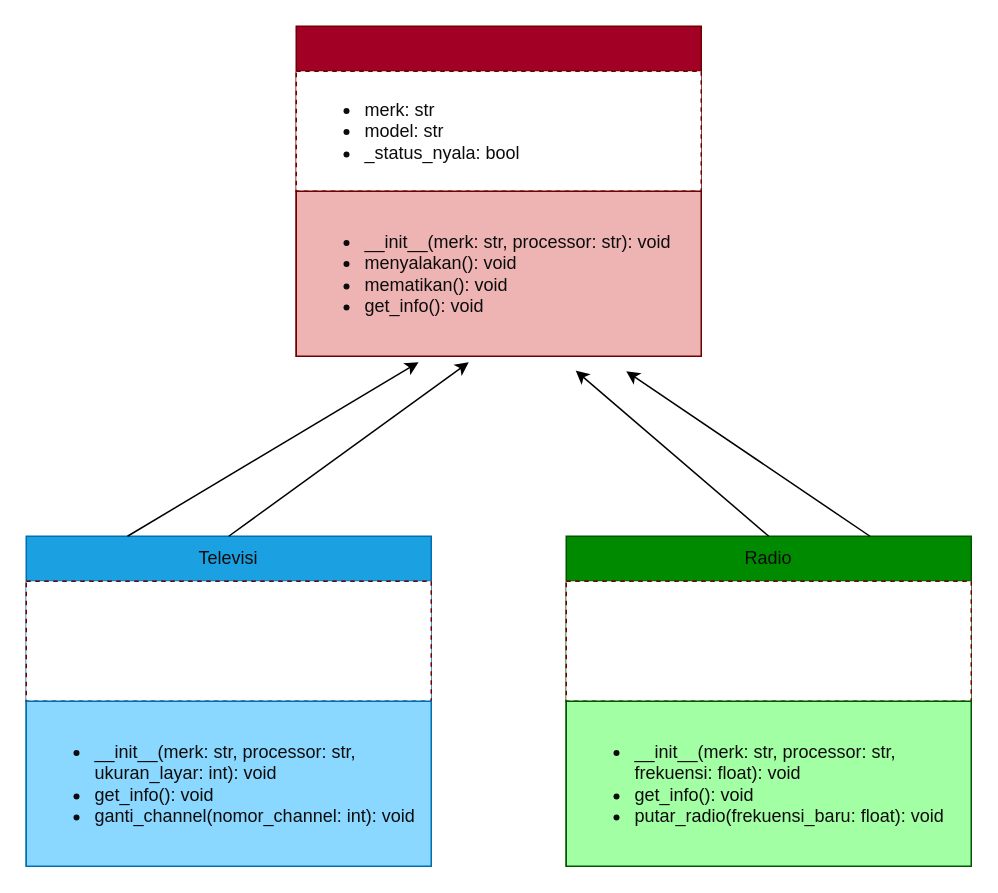
The diagram is 998 pixels wide and 893 high, and some of its shapes have lost their labels. The box of each missing label's shape, as (x1, y1, x2, y2) in pixels:
AlatElektronik: (295, 25, 701, 356)
frekuensi: float: (565, 580, 971, 701)
ukuran_layar: int: (25, 580, 431, 701)
